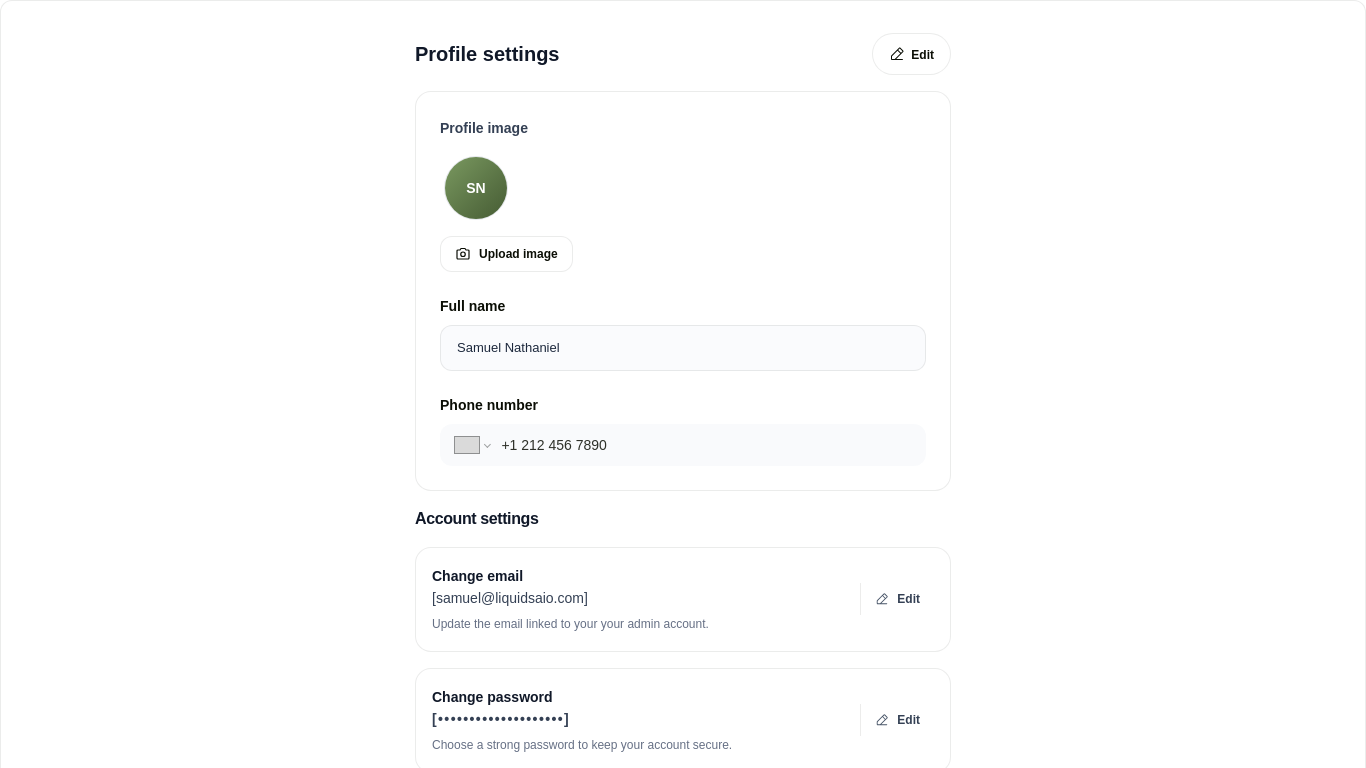
Test: ProfileSettings › enables profile form fields when editing
Check: the field showing "Samuel Nathaniel" is shown, box [441, 326, 925, 370]
Click the button with aria-label "Edit profile settings" at (912, 54), box [872, 33, 951, 75]
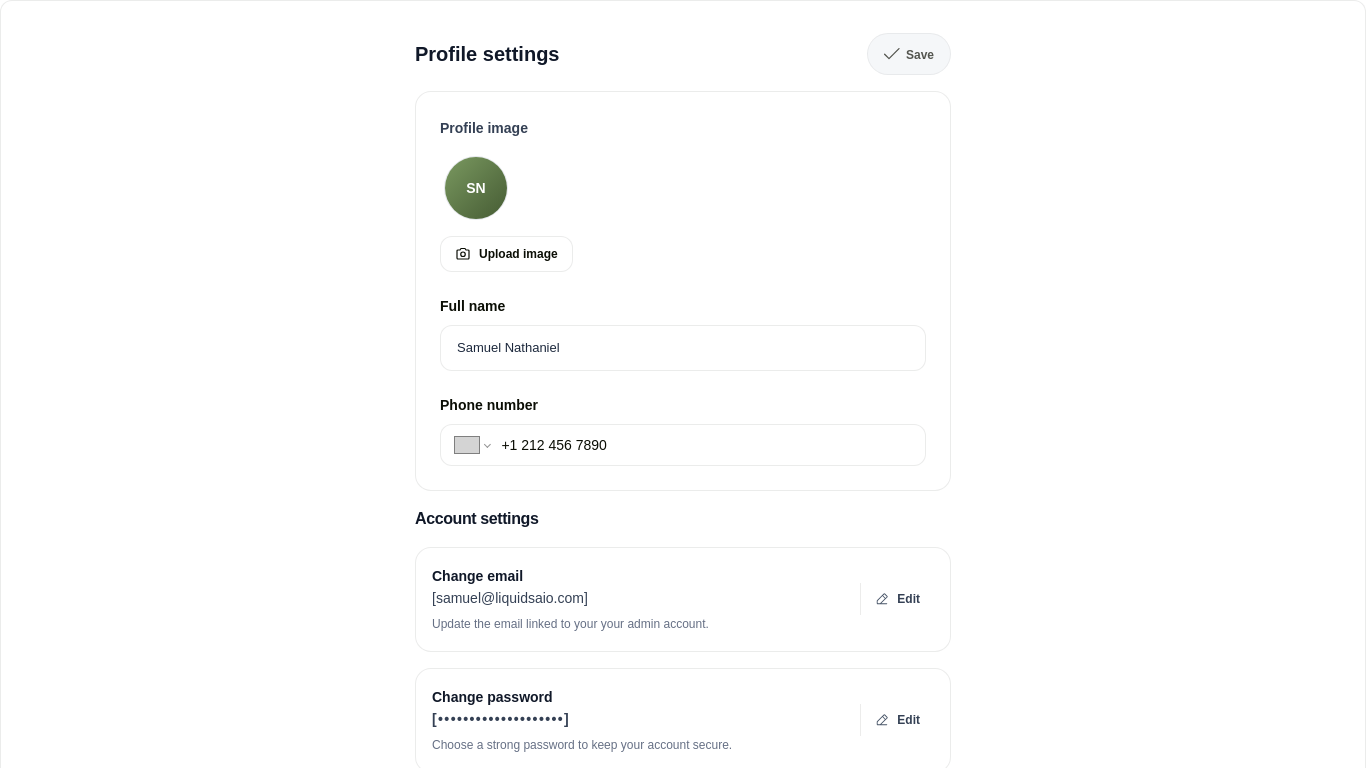
Check: the field showing "Samuel Nathaniel" is enabled, box [441, 326, 925, 370]
Check: the field named "phone number" is enabled, box [501, 434, 911, 454]
Check: the button with aria-label "Save profile settings" is shown, box [867, 33, 951, 75]
